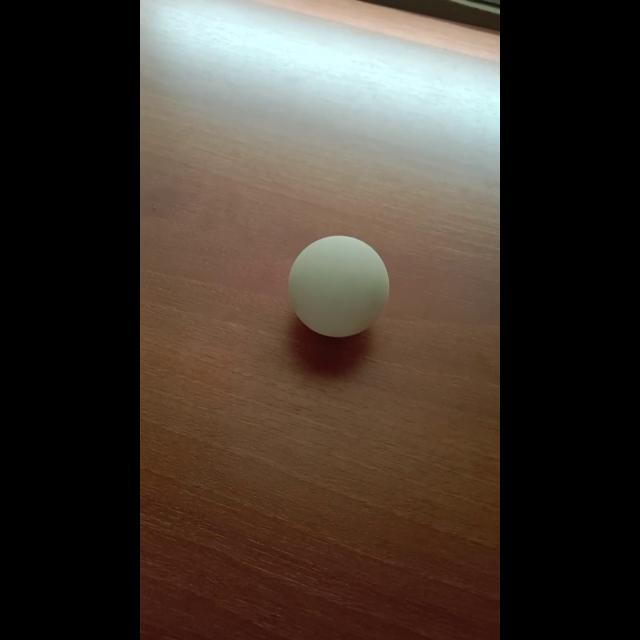white ball: (287, 234, 389, 338)
